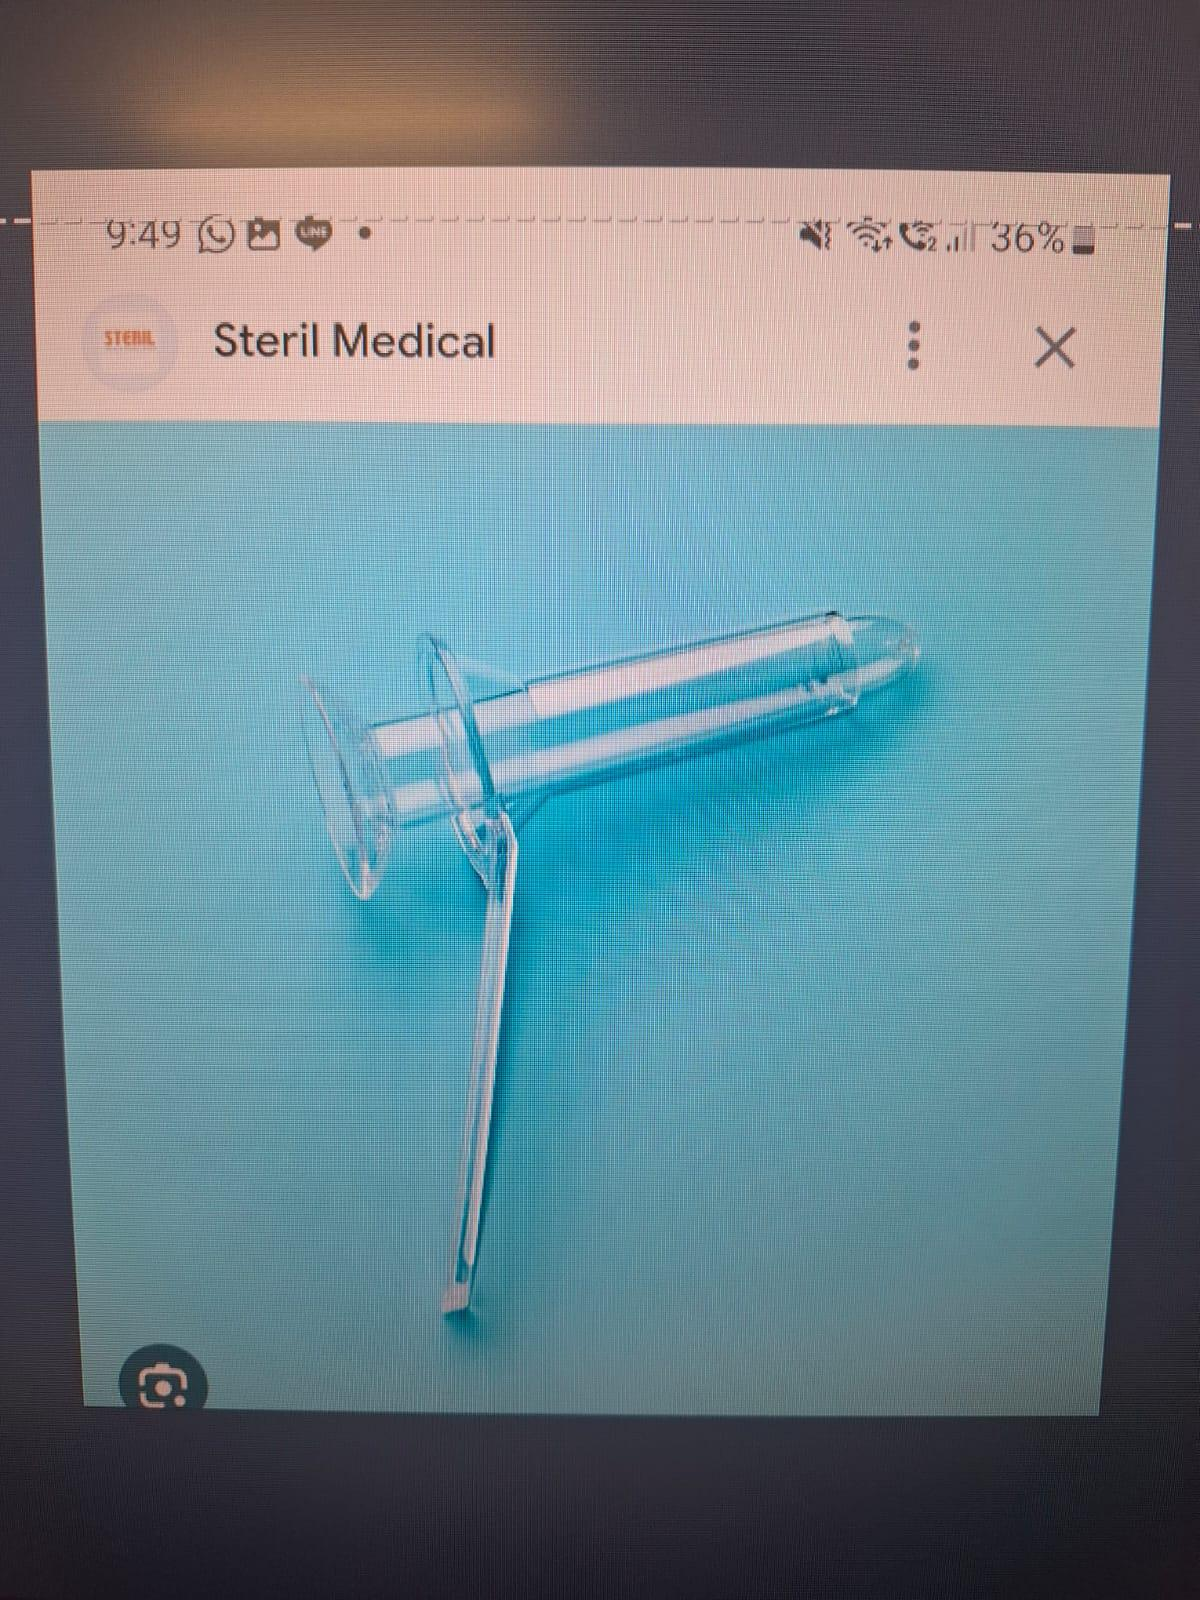Protoscope: (297, 597, 945, 1335)
